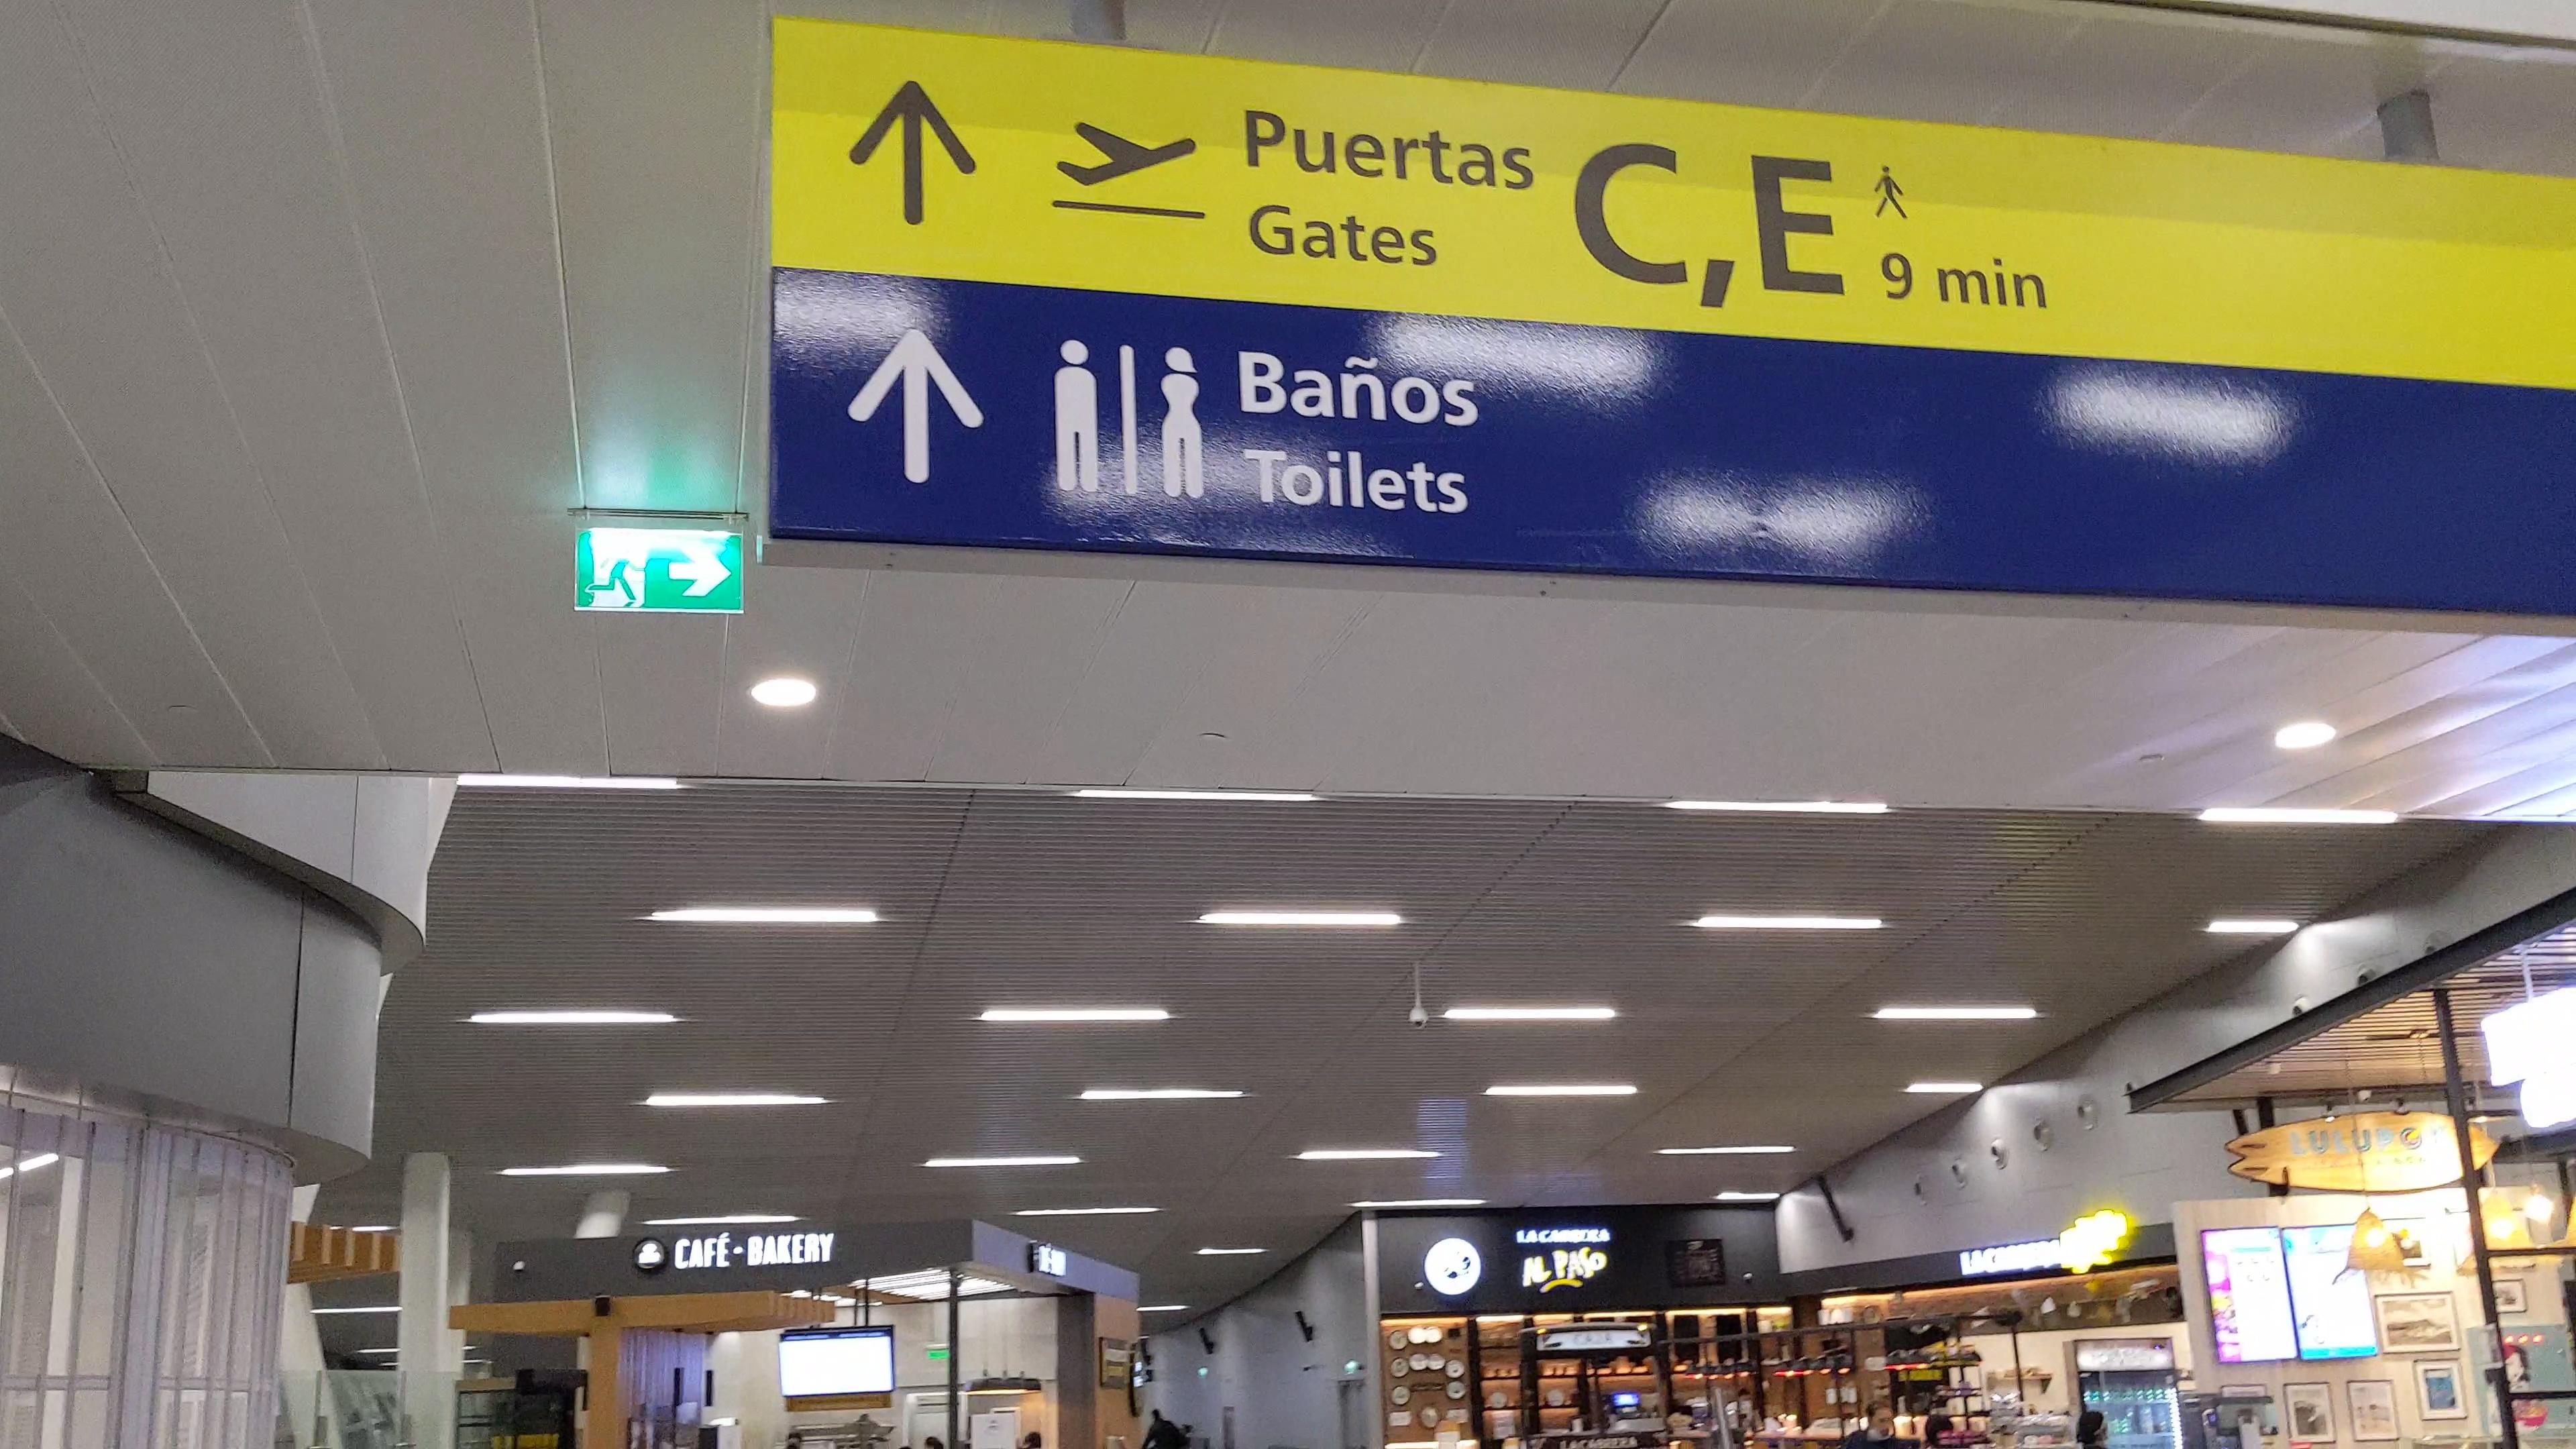airplane symbol: (1056, 120, 1207, 191)
bathrooms: (1047, 334, 1214, 510)
emergency exit: (582, 543, 651, 609)
emergency right arrow: (665, 548, 734, 600)
thin up arrow: (842, 320, 989, 487)
up arrow: (844, 76, 980, 234)
